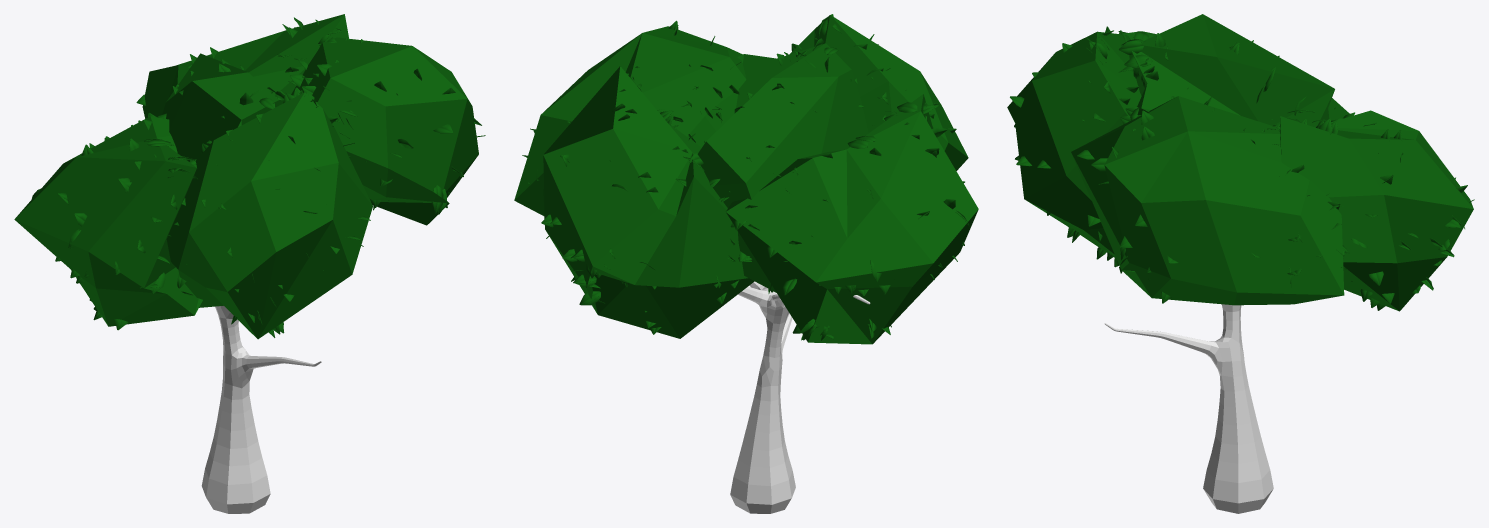
Rendered from LPTree2.fbx.
3 renders of one model, left to right at view 1: azimuth 30°, elevation 25°; view 2: azimuth 150°, elevation 25°; view 3: azimuth 270°, elevation 25°, orthographic. The views are drawn at different scales.
Visible parts, largest first — view 1: Sphere.001, Tree; view 2: Sphere.001, Tree; view 3: Sphere.001, Tree.
Boxes of the visible parts, left/top/right/bottom form: Sphere.001: left=14, top=14, right=478, bottom=339; Tree: left=201, top=306, right=321, bottom=513; Sphere.001: left=514, top=15, right=978, bottom=344; Tree: left=730, top=281, right=870, bottom=513; Sphere.001: left=1007, top=14, right=1473, bottom=311; Tree: left=1104, top=304, right=1273, bottom=513.
Bounding box in the file's own units: 420 × 436 × 389.
